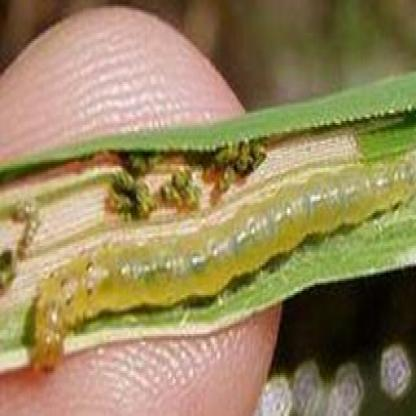leaf-folder: (19, 147, 416, 382)
